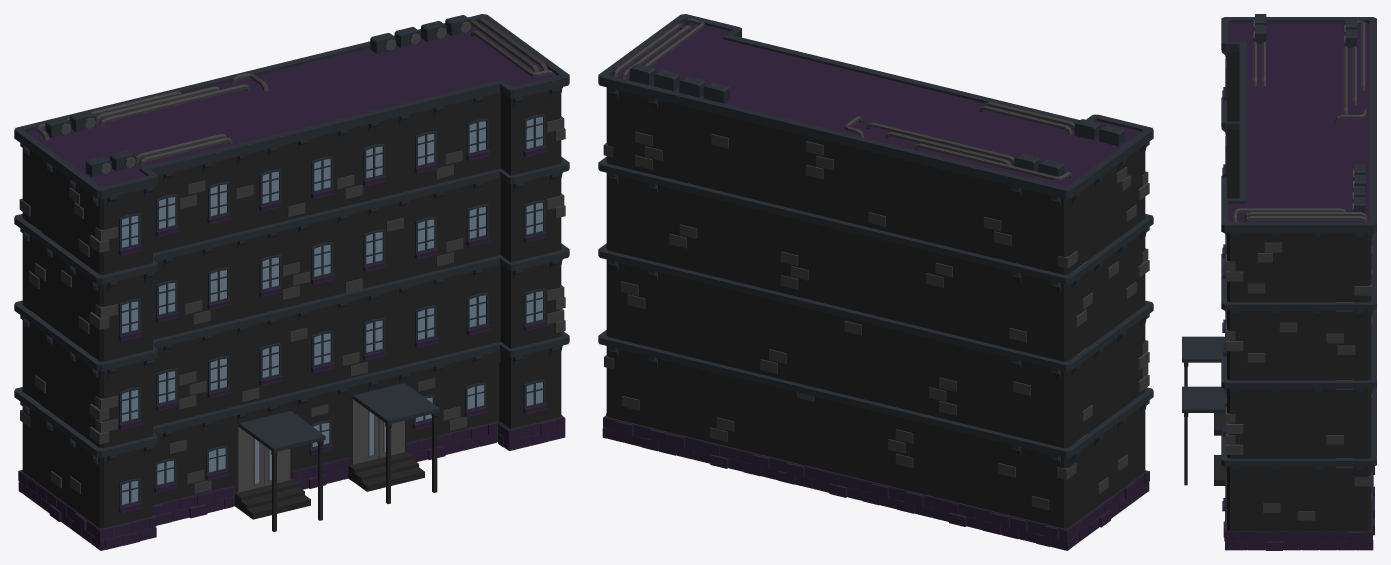
File: quat_4story_wide_2doors.glb
3 renders of one model, left to right at view 1: azimuth 30°, elevation 25°; view 2: azimuth 150°, elevation 25°; view 3: azimuth 270°, elevation 25°, orthographic. The views are drawn at different scales.
Visible parts, largest first — view 1: 4Story_Wide_2Doors_Cube.022; view 2: 4Story_Wide_2Doors_Cube.022; view 3: 4Story_Wide_2Doors_Cube.022.
Part boxes in pixels (x1,y1,x2,y2): 4Story_Wide_2Doors_Cube.022: (14, 14, 569, 550); 4Story_Wide_2Doors_Cube.022: (598, 14, 1153, 550); 4Story_Wide_2Doors_Cube.022: (1182, 14, 1376, 550).
Size of the model in its own units: 6.83 by 5.15 by 2.7.
Materials: 1 (1 with a texture image).
